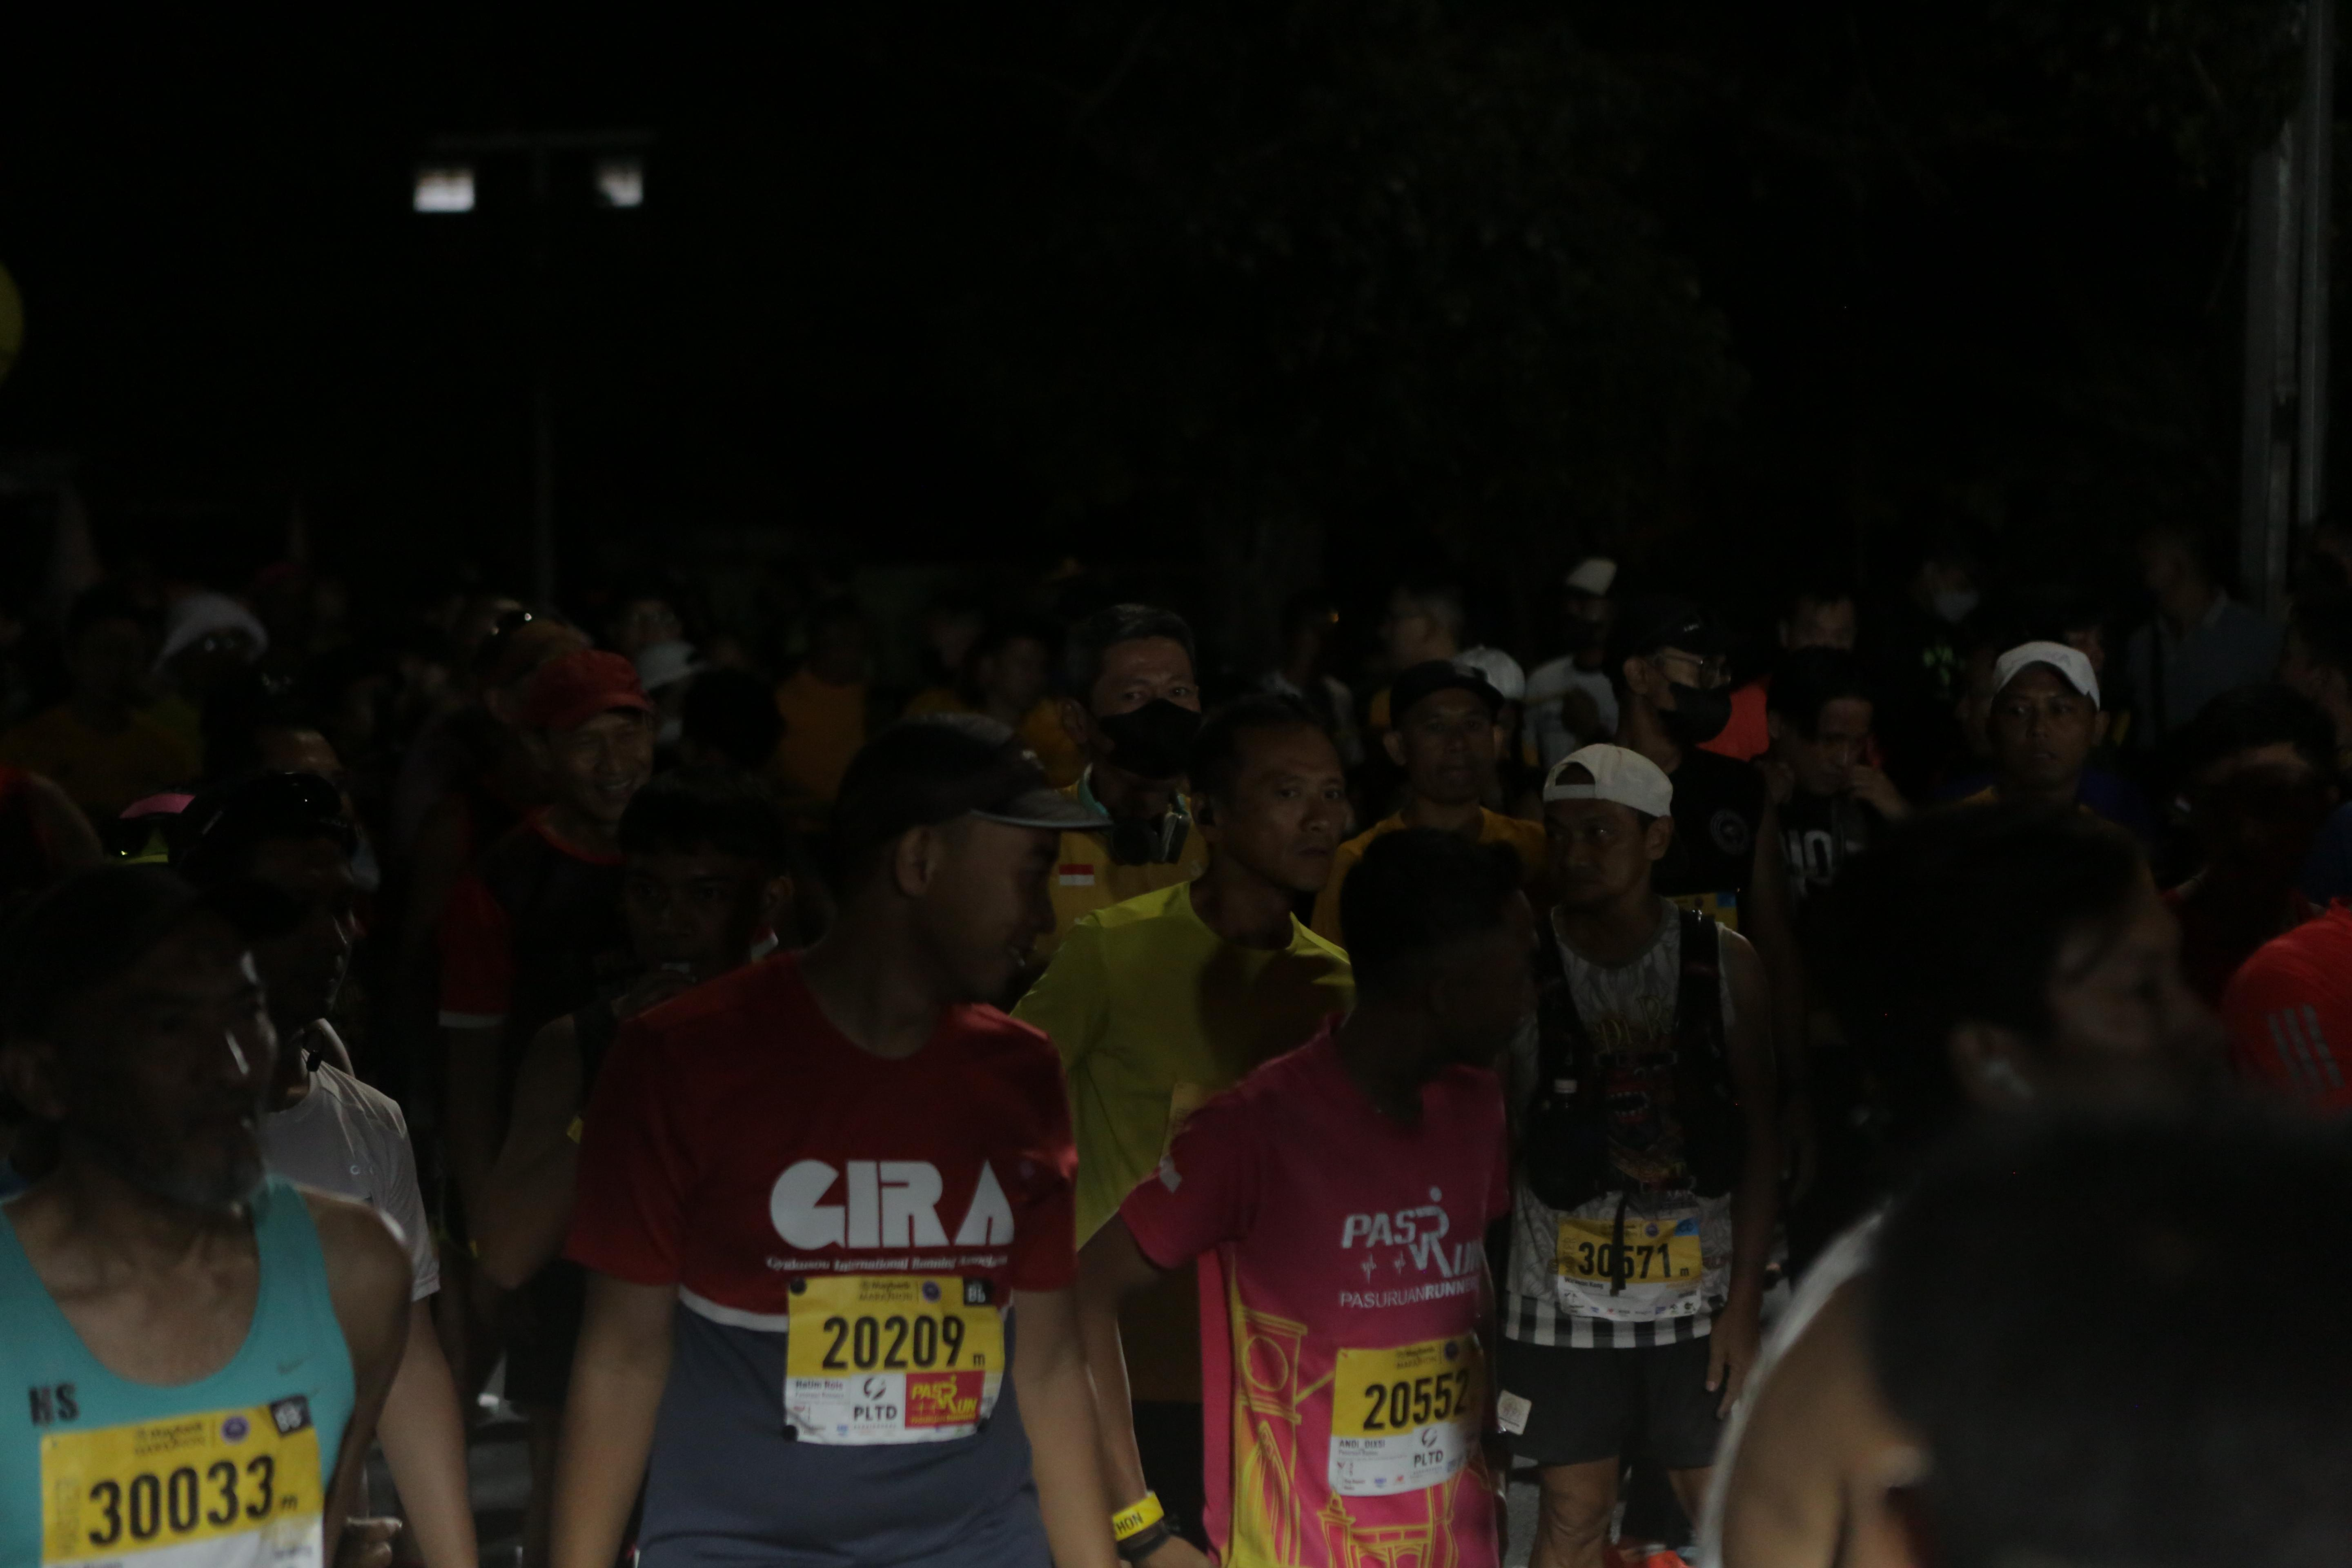bib: (42, 1407, 325, 1568), (787, 1270, 1003, 1442), (1330, 1342, 1472, 1498), (1549, 1211, 1701, 1323)
